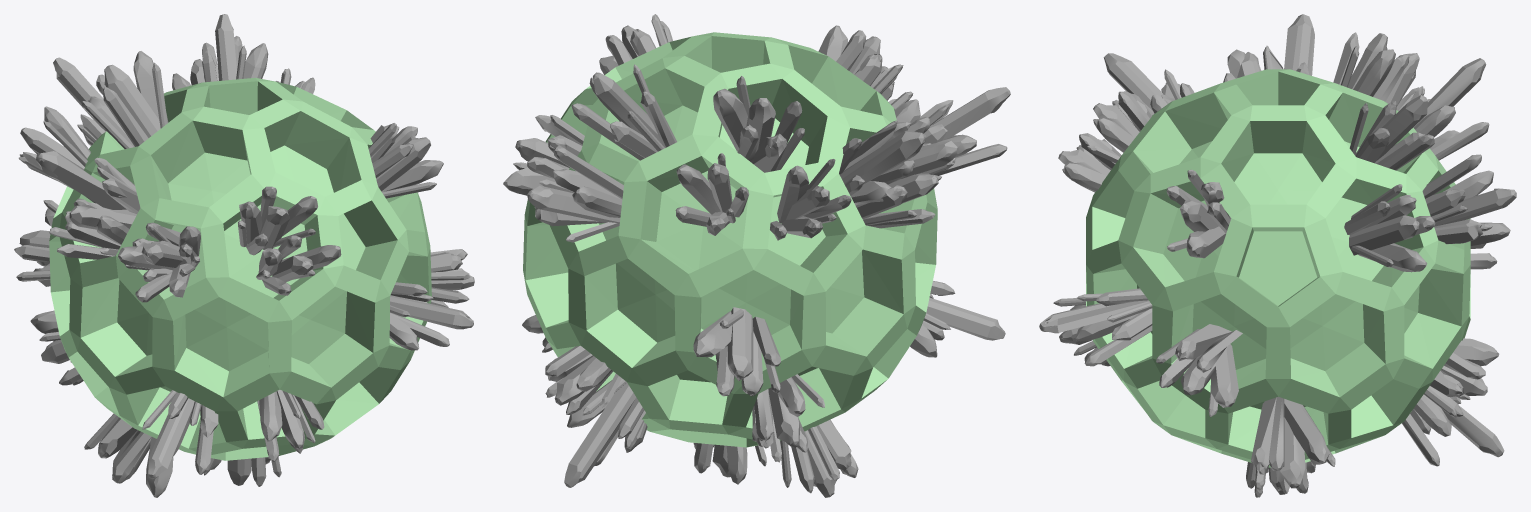
The model's file is crystal_star2.fbx.
3 renders of one model, left to right at view 1: azimuth 30°, elevation 25°; view 2: azimuth 150°, elevation 25°; view 3: azimuth 270°, elevation 25°, orthographic. The views are drawn at different scales.
Visible parts, largest first — view 1: GeoSphere004, pCylinder24, pCylinder10, pCylinder17, pCylinder27, pCylinder31, pCylinder8, pCylinder26, pCylinder11, pCylinder16, pCylinder12, pCylinder30 (+9 smaller); view 2: GeoSphere004, pCylinder15, pCylinder10, pCylinder25, pCylinder24, pCylinder30, pCylinder28, pCylinder20, pCylinder9, pCylinder26, pCylinder29, pCylinder23 (+8 smaller); view 3: GeoSphere004, pCylinder18, pCylinder31, pCylinder15, pCylinder23, pCylinder22, pCylinder30, pCylinder29, pCylinder17, pCylinder24, pCylinder28, pCylinder19 (+8 smaller).
Part boxes in pixels (x1,y1,x2,y2): GeoSphere004: [49, 77, 431, 460]; pCylinder24: [81, 51, 168, 148]; pCylinder10: [36, 151, 140, 229]; pCylinder17: [368, 123, 443, 198]; pCylinder27: [142, 390, 218, 478]; pCylinder31: [389, 282, 473, 350]; pCylinder8: [238, 186, 317, 255]; pCylinder26: [84, 413, 173, 497]; pCylinder11: [118, 224, 197, 302]; pCylinder16: [257, 389, 324, 461]; pCylinder12: [256, 235, 341, 295]; pCylinder30: [202, 14, 268, 82]; GeoSphere004: [523, 32, 937, 447]; pCylinder15: [527, 145, 623, 242]; pCylinder10: [839, 120, 958, 205]; pCylinder25: [693, 307, 780, 396]; pCylinder24: [713, 75, 804, 172]; pCylinder30: [571, 64, 676, 160]; pCylinder28: [564, 378, 647, 487]; pCylinder20: [752, 374, 824, 462]; pCylinder9: [770, 159, 851, 240]; pCylinder26: [780, 419, 858, 497]; pCylinder29: [675, 153, 749, 235]; pCylinder23: [503, 115, 584, 195]; GeoSphere004: [1086, 69, 1470, 467]; pCylinder18: [1251, 396, 1335, 493]; pCylinder31: [1039, 288, 1152, 366]; pCylinder15: [1422, 154, 1516, 244]; pCylinder23: [1344, 184, 1435, 272]; pCylinder22: [1156, 324, 1242, 417]; pCylinder30: [1349, 95, 1434, 170]; pCylinder29: [1410, 58, 1489, 160]; pCylinder17: [1166, 169, 1231, 258]; pCylinder24: [1333, 32, 1409, 101]; pCylinder28: [1402, 394, 1504, 466]; pCylinder19: [1423, 338, 1499, 417].
Bounding box in the file's own units: 1.39 × 1.42 × 1.45.
